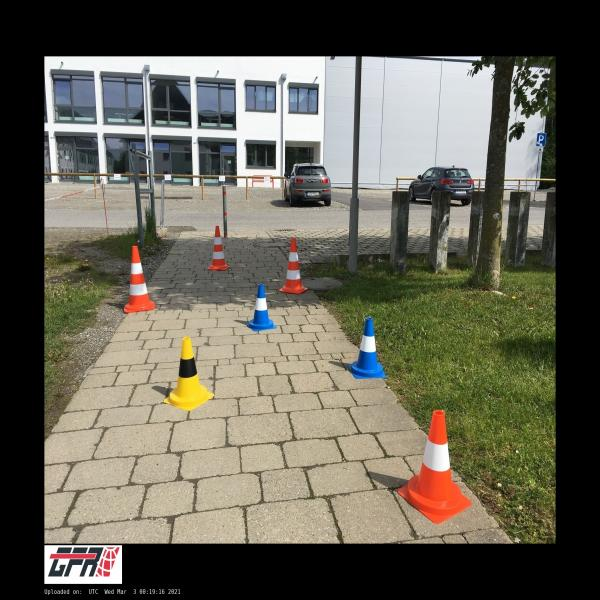blue_cone: (348, 318, 387, 378), (246, 284, 277, 332)
large_orange_cone: (124, 246, 155, 312), (279, 237, 307, 294), (208, 226, 229, 270)
orange_cone: (398, 410, 471, 524)
yellow_cone: (163, 337, 214, 411)
